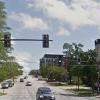Traffic light: (2, 27, 65, 52)
